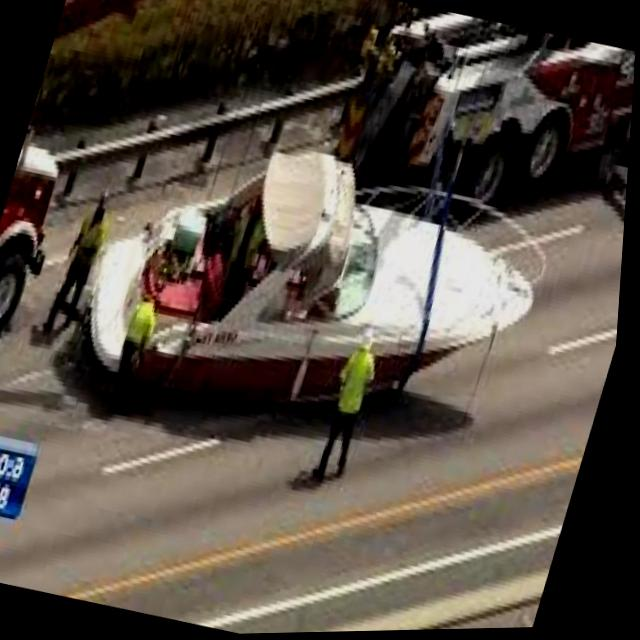ship2: (88, 154, 539, 412)
